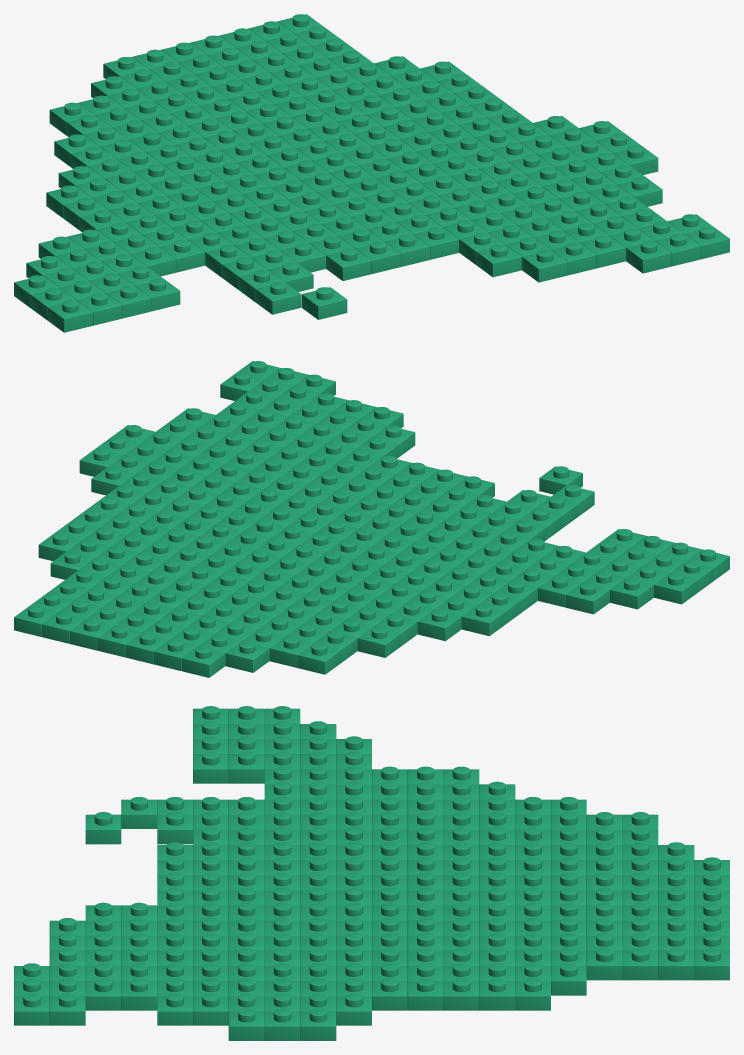
Rendered from SouthAfrica.fbx.
3 views of the same model, one above another, from view 1: azimuth 30°, elevation 25°; view 2: azimuth 150°, elevation 25°; view 3: azimuth 270°, elevation 25° (orthographic). The views are drawn at different scales.
Parts seen in each view (by area): view 1: Cylinder_189; view 2: Cylinder_189; view 3: Cylinder_189.
Part boxes in pixels (x1,y1,x2,y2): Cylinder_189: (14, 14, 729, 332); Cylinder_189: (14, 361, 729, 677); Cylinder_189: (14, 706, 729, 1040).
Size of the model in its own units: 2100 by 65.03 by 2000.
